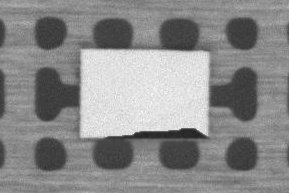DIE_BROKEN: (106, 122, 210, 139)
